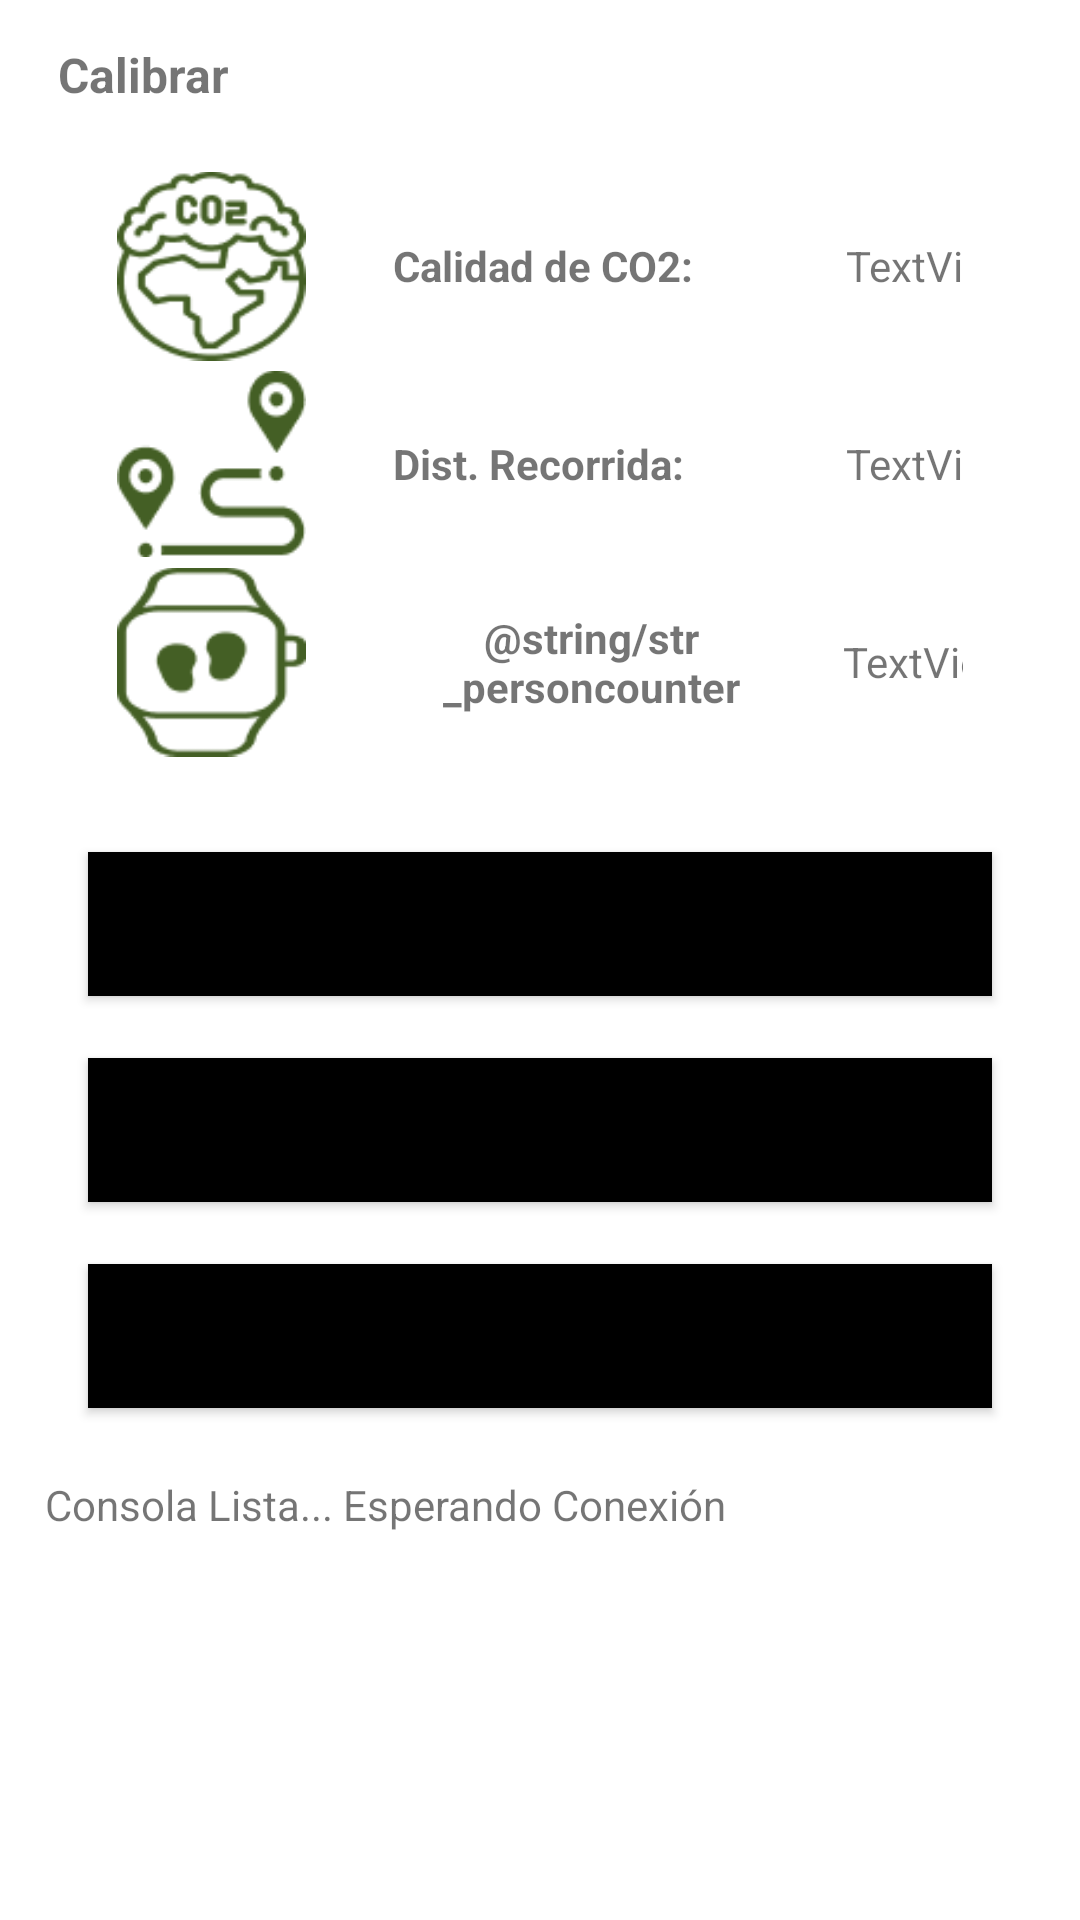

Named icons in this screenshot (1080 × 1920) and their centers, point (x, y):
distance: point (211, 464)
steps: point (211, 662)
